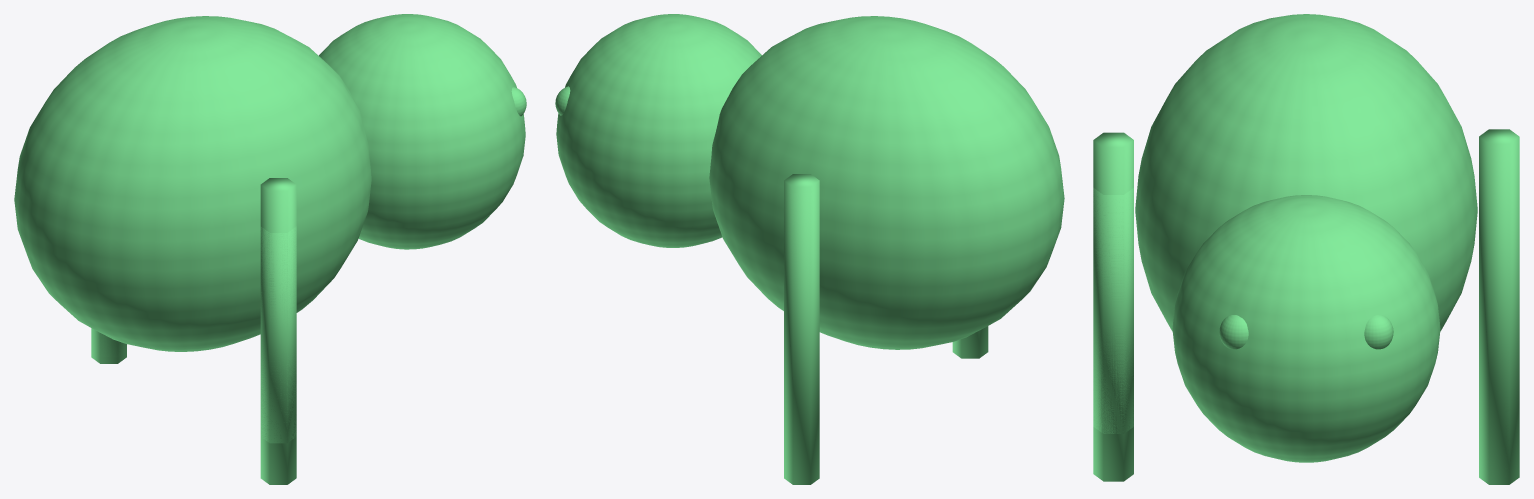
File: adhesion_bug_01.glb
The picture shows the model from 3 angles, left to right: view 1: azimuth 30°, elevation 25°; view 2: azimuth 150°, elevation 25°; view 3: azimuth 270°, elevation 25°; orthographic projection. The views are drawn at different scales.
Visible parts, largest first — view 1: adhesion_bug_01; view 2: adhesion_bug_01; view 3: adhesion_bug_01.
Part boxes in pixels (x1,y1,x2,y2): adhesion_bug_01: (14,14,526,484); adhesion_bug_01: (555,14,1064,484); adhesion_bug_01: (1093,14,1519,484).
Size of the model in its own units: 3.1 by 2.4 by 2.1.
